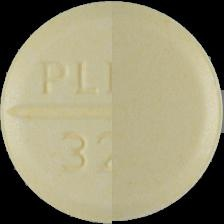50111-325: (0, 0, 224, 224)
